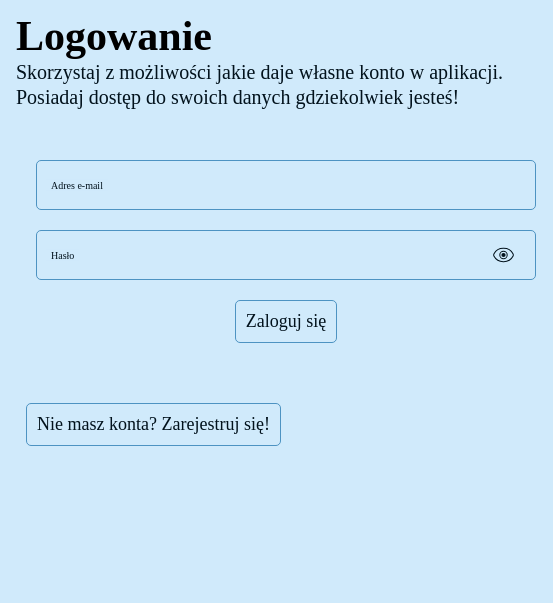
Test: LoginFormContainer component › Should render heading properly on register state
Click the button "Nie masz konta? Zarejestruj się!" at coordinates (153, 424), box left=26, top=403, right=281, bottom=446
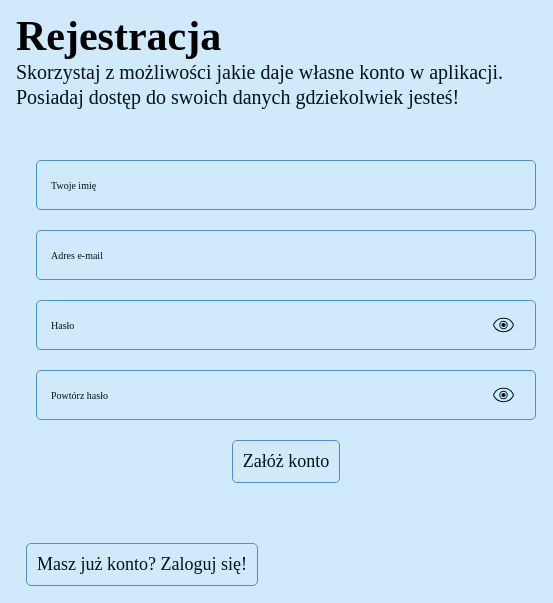
Check: the heading reads "Rejestracja", box left=16, top=13, right=221, bottom=59
Check: the heading "Logowanie" is gone
Check: the button "Masz już konto? Zaloguj się!" is shown, box left=26, top=543, right=258, bottom=586
